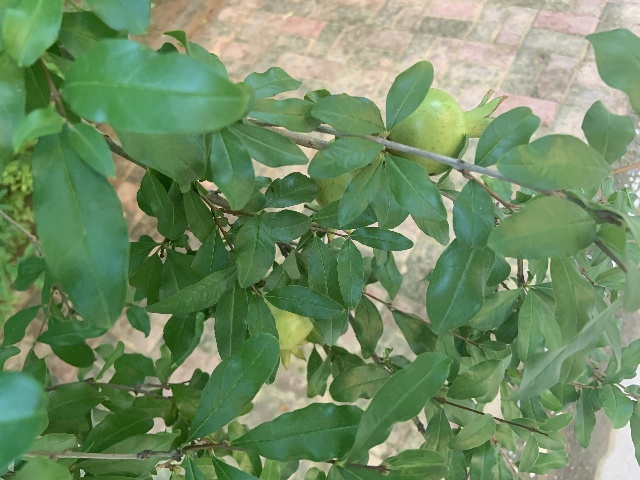mid-growth: (389, 88, 508, 175), (303, 138, 361, 243), (262, 297, 314, 370)
